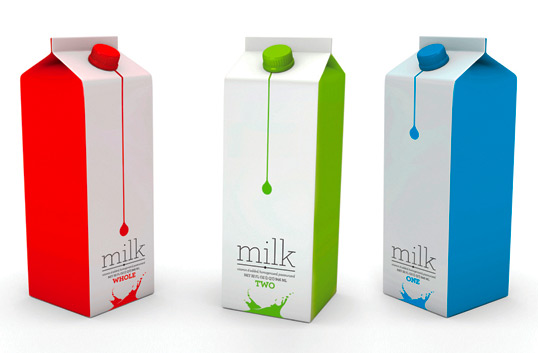Rec_Paper: (12, 27, 162, 327), (207, 30, 354, 329), (375, 21, 514, 319)
